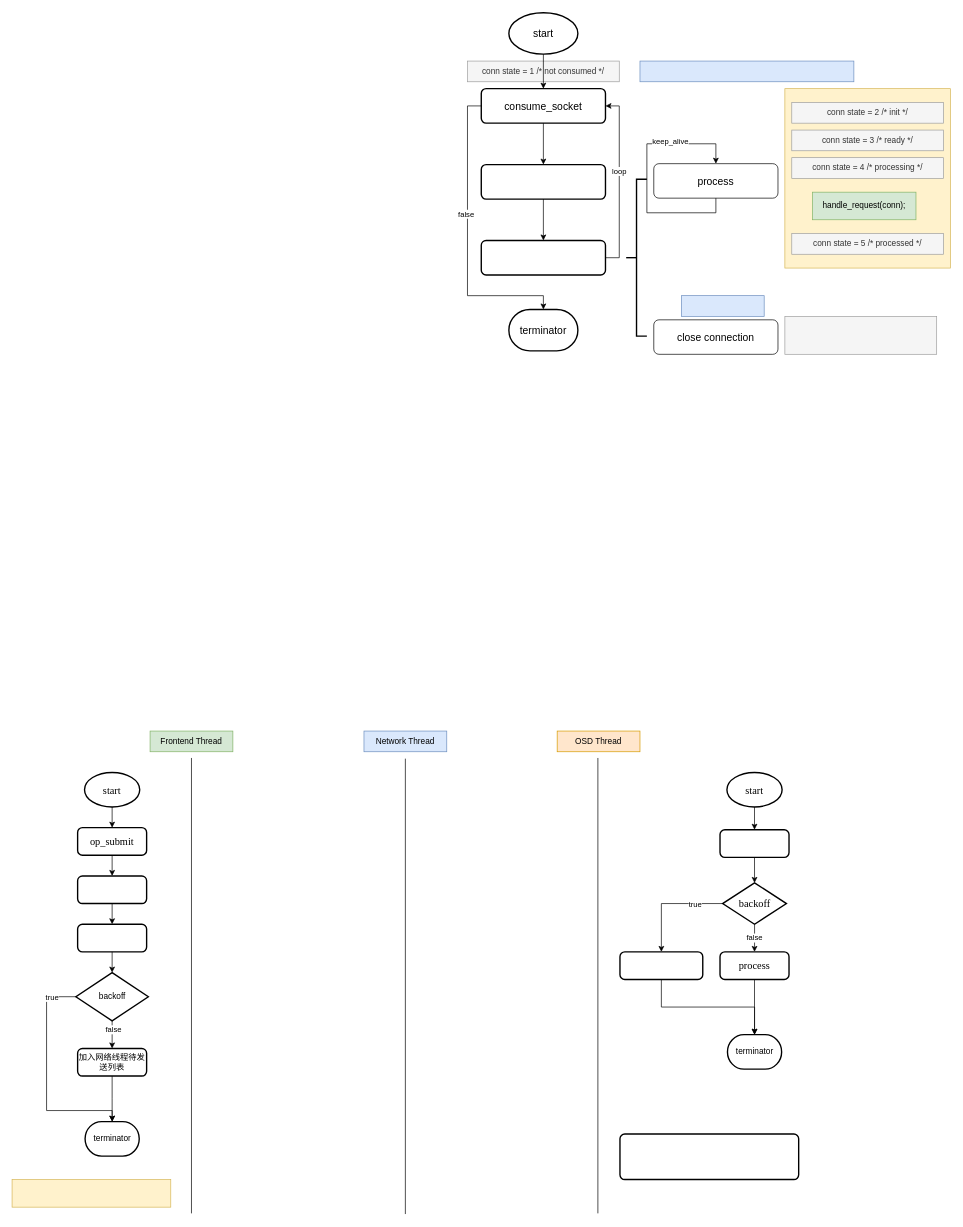
Image size: 963x1227. Some labels were removed from this diagram. Each missing label, with the centre of its shape:
"add_pg_backoff" goes at point 661,965.
"conn state = 6 /* to close */ .... conn state = 9 /* closed */" goes at point 860,335.
"init connection 1" goes at point 543,181.
"op dequeue" goes at point 754,843.
"op 加入 ops 数组" goes at point 112,889.
"OSDSession:: ops // pending ops OSDSession:: backoffs ; // backoff" goes at point 91,1193.
"process connection" goes at point 543,257.
"send op" goes at point 112,937.
"state_set(PG_STATE_ACTIVATING); release_pg_backoffs();" goes at point 709,1156.
"内部需要释放锁" goes at point 722,305.
"每个线程初始分配一个 connection 变量，后续只赋值" goes at point 746,71.
